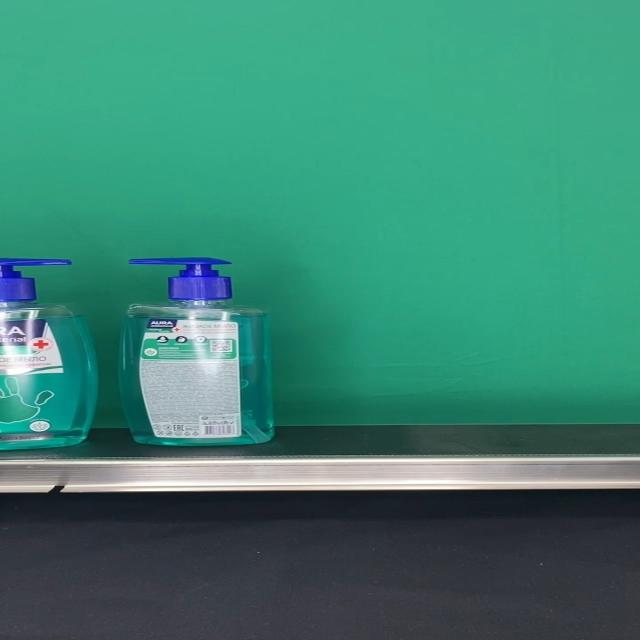Bottle: (118, 258, 274, 446)
Cap: (129, 258, 232, 301)
